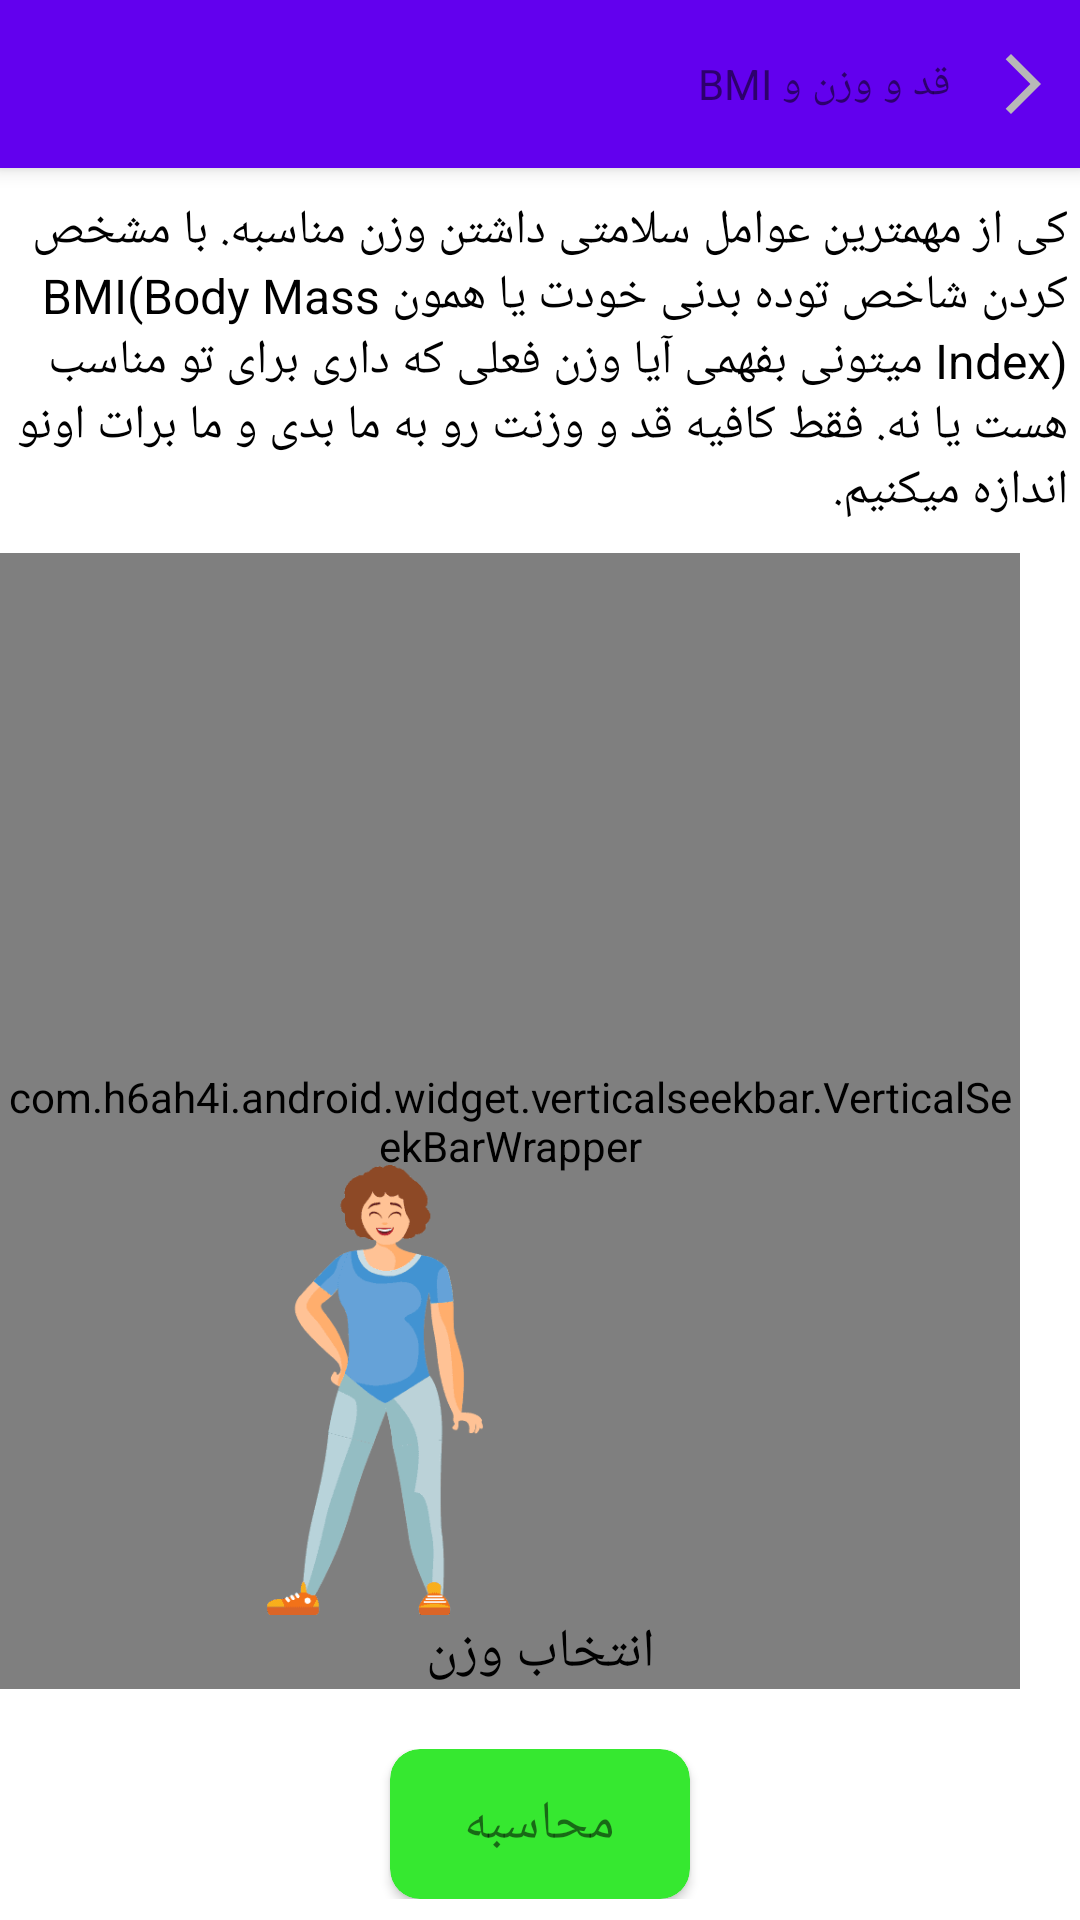

Where to tap for icons on this 1080w x 1920h app screen, as point (x, y):
back: point (1023, 84)
